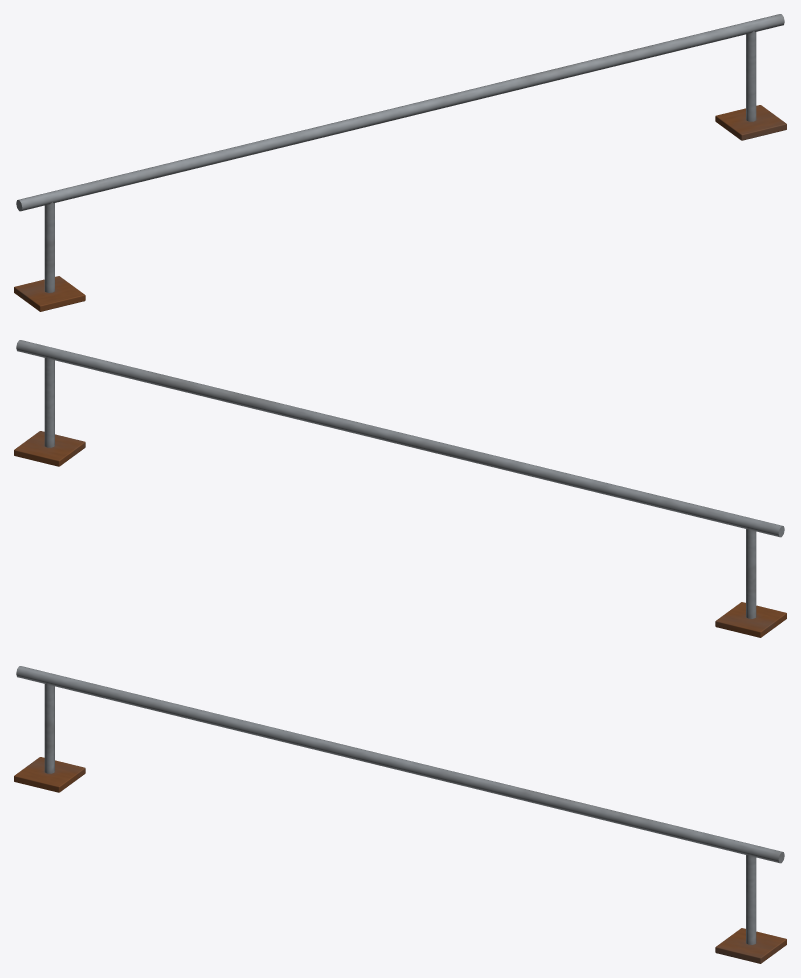
The model's file is skate_rail.glb.
3 renders of one model, top to bottom at view 1: azimuth 30°, elevation 25°; view 2: azimuth 150°, elevation 25°; view 3: azimuth 330°, elevation 25°, orthographic.
Visible parts, largest first — view 1: Rail; view 2: Rail; view 3: Rail.
Part boxes in pixels (x1,y1,x2,y2): Rail: (14,14,786,311); Rail: (14,340,786,637); Rail: (14,666,786,963).
Size of the model in its own units: 5 by 0.655 by 0.3.
1 material, 1 textured.
